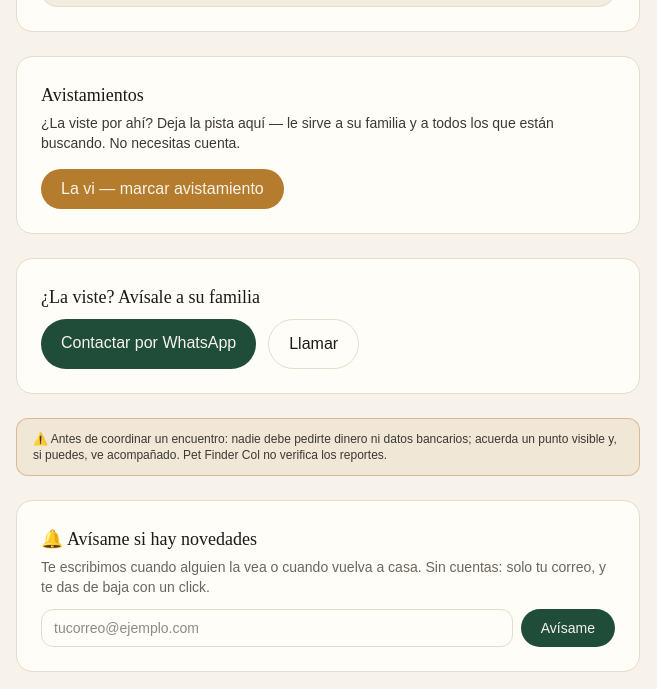
Test case: ReporteDetalle › la caja de novedades suscribe el correo y confirma (feature 39)
(page scrolled)
Check: the heading "🔔 Avísame si hay novedades" is shown, box [41,528,257,548]
Type "vecina@example.co" into the field named "Tu correo" at (277, 628), box [41,608,513,646]
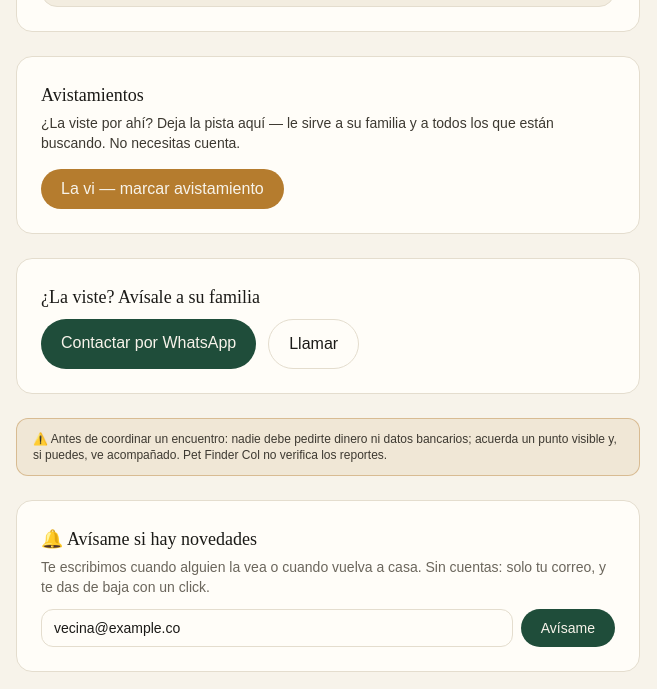
Click the button "Avísame" at (568, 628), box [521,608,615,646]
(page scrolled)
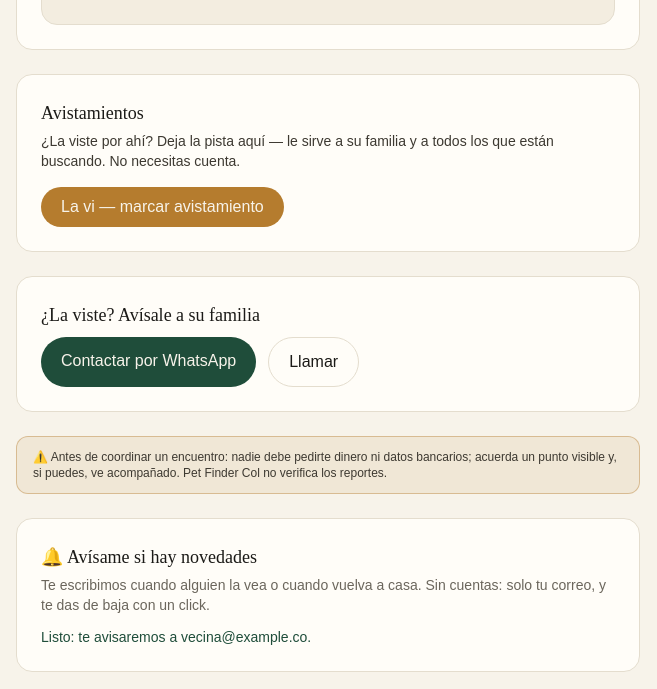
Check: the text "Listo: te avisaremos a vecina@example.co." is shown, box [41,628,311,644]
